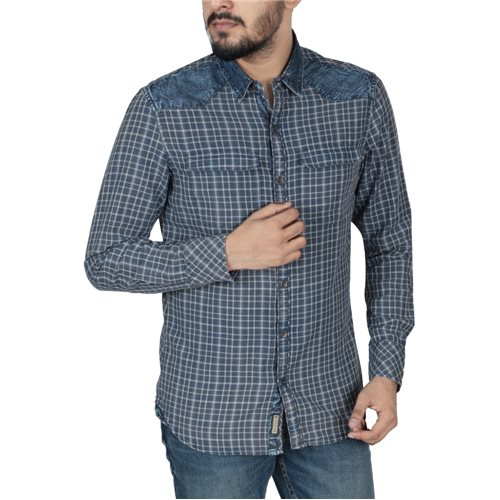Shirt: (81, 50, 435, 452)
